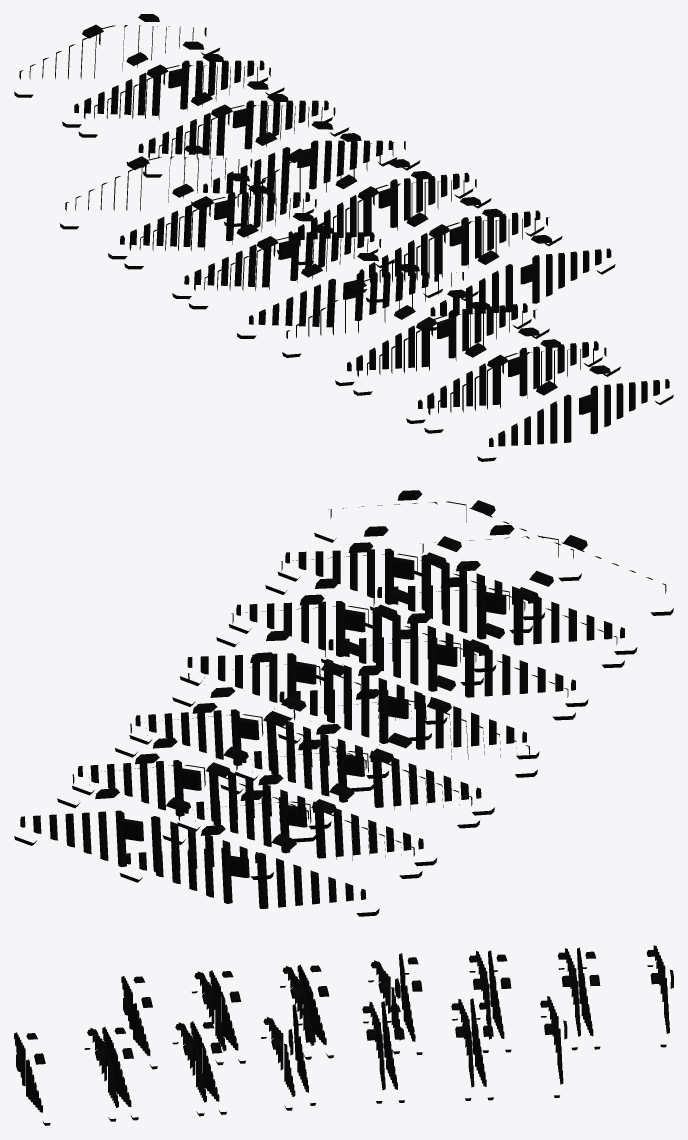
The model's file is prop_static_tan_container_01_04_0.glb.
The picture shows the model from 3 angles, top to bottom: view 1: azimuth 30°, elevation 25°; view 2: azimuth 150°, elevation 25°; view 3: azimuth 270°, elevation 25°; orthographic projection. The views are drawn at different scales.
Visible parts, largest first — view 1: tan_container_01_04_LOD0; view 2: tan_container_01_04_LOD0; view 3: tan_container_01_04_LOD0.
Boxes of the visible parts, x1,y1,x2,y2 form: tan_container_01_04_LOD0: (14,14,673,461); tan_container_01_04_LOD0: (14,490,673,916); tan_container_01_04_LOD0: (14,945,673,1125).
Size of what is drawn, in the model's own units: 6.43 by 2.81 by 15.57.
1 material, 1 textured.
